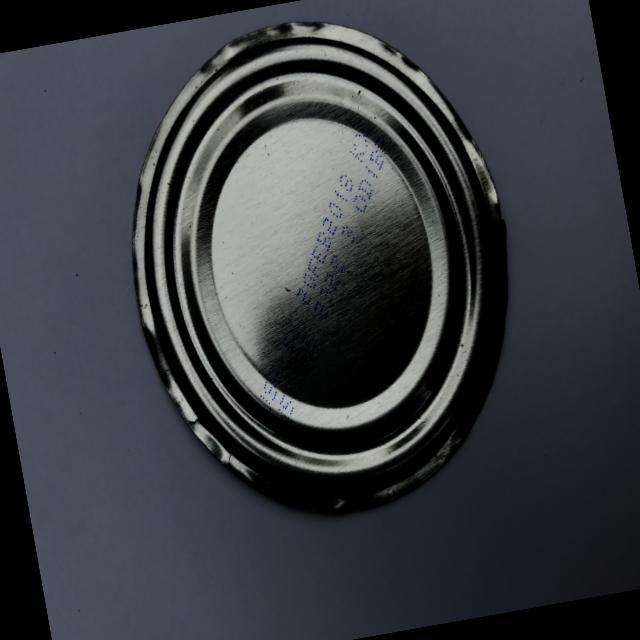Metal: (75, 0, 579, 559)
